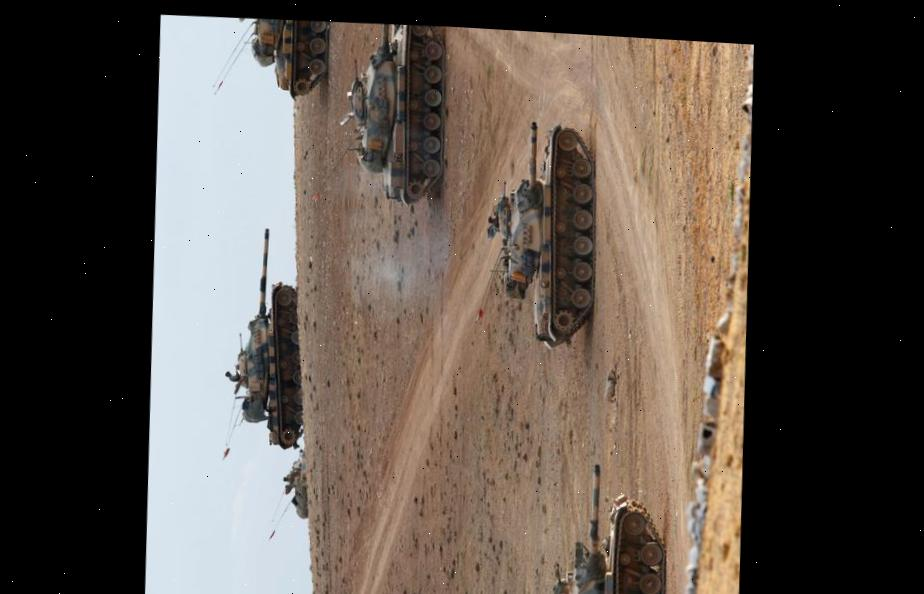tank: (477, 117, 602, 352), (213, 223, 311, 459), (337, 20, 444, 211), (544, 451, 672, 594), (220, 15, 330, 103)
